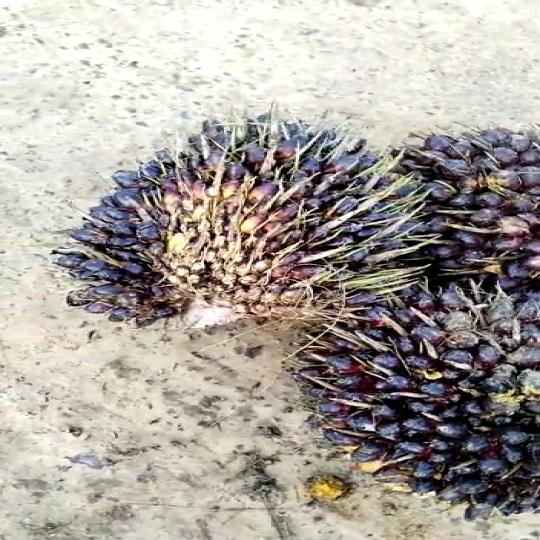mentah: (56, 94, 436, 352), (276, 280, 540, 530), (371, 110, 538, 301)
